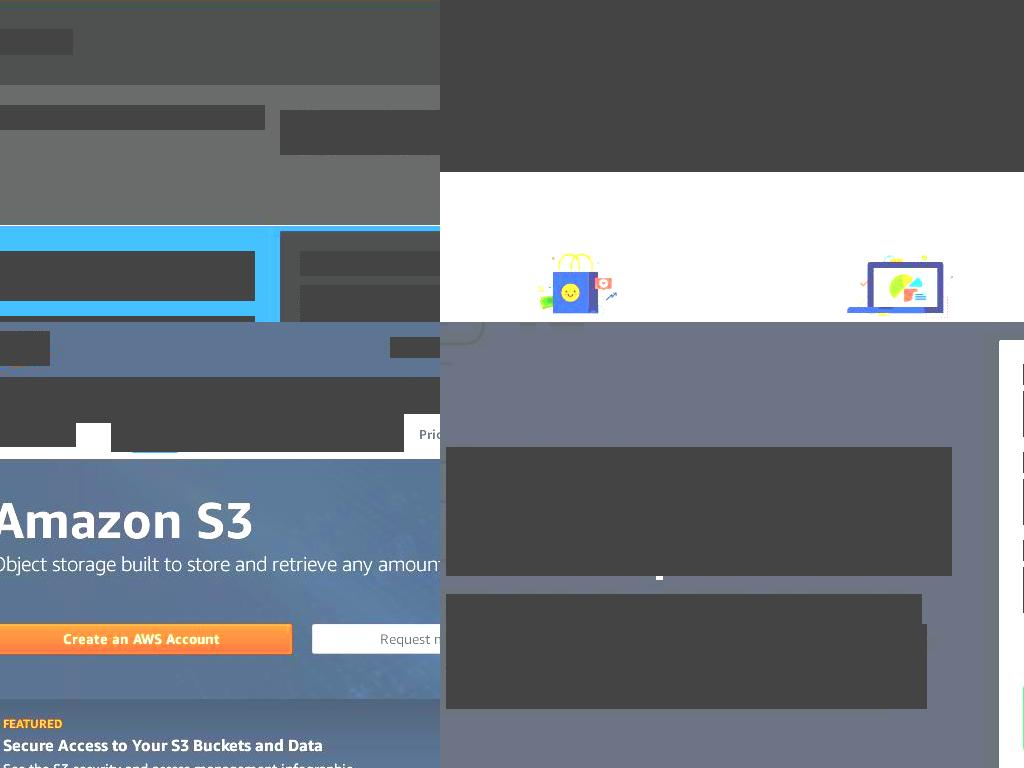button: (0, 699, 440, 768), (0, 624, 293, 654), (215, 377, 342, 423), (281, 414, 404, 452), (936, 99, 1024, 145), (62, 377, 147, 423), (312, 624, 440, 654), (111, 414, 199, 452), (147, 377, 215, 423), (645, 624, 765, 650), (199, 414, 281, 452), (0, 377, 62, 423), (342, 377, 401, 423), (797, 624, 880, 650), (0, 422, 76, 447), (401, 377, 440, 423), (0, 331, 50, 366), (404, 414, 440, 452), (390, 337, 440, 358)
heading: (446, 447, 952, 576), (0, 489, 440, 549), (0, 549, 440, 579), (0, 251, 255, 301), (3, 733, 440, 758), (300, 251, 440, 276)
image: (440, 0, 1024, 172), (514, 247, 636, 322), (839, 247, 961, 322), (280, 110, 440, 155)
link: (300, 285, 440, 322)
text: (446, 624, 927, 709), (445, 6, 901, 85), (446, 594, 922, 649), (3, 714, 440, 733), (0, 625, 292, 653), (0, 105, 265, 130), (3, 758, 440, 768), (313, 625, 440, 653), (0, 29, 73, 55), (0, 331, 50, 366), (967, 26, 1024, 53), (967, 0, 1024, 23), (967, 57, 1004, 84), (950, 153, 1024, 166), (765, 624, 797, 649)
